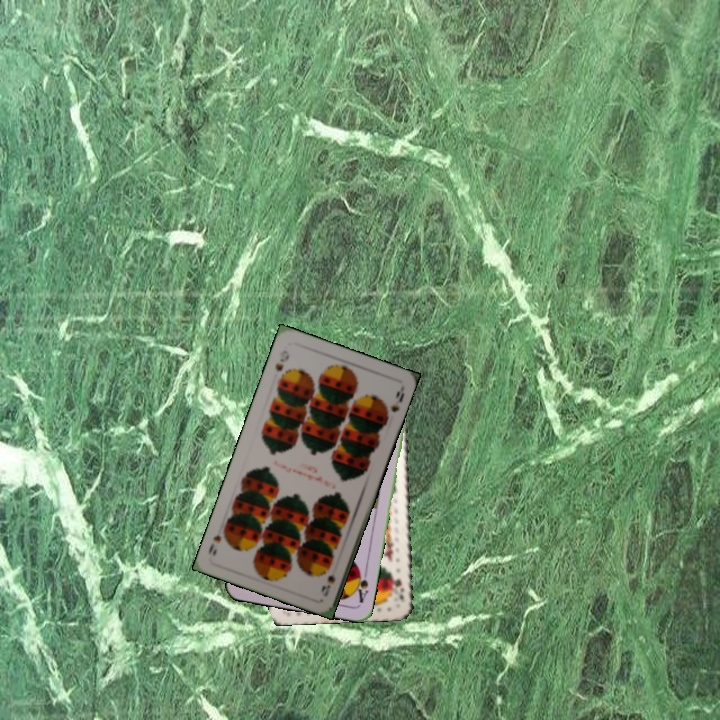S9: (317, 569, 338, 599), (271, 346, 292, 374)
SA: (350, 565, 371, 605)
SK: (391, 575, 407, 604)
